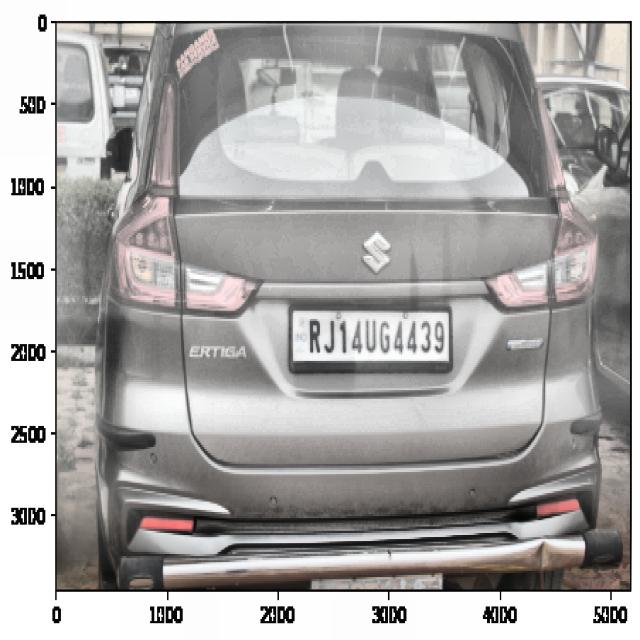license_plate: (299, 307, 451, 368)
